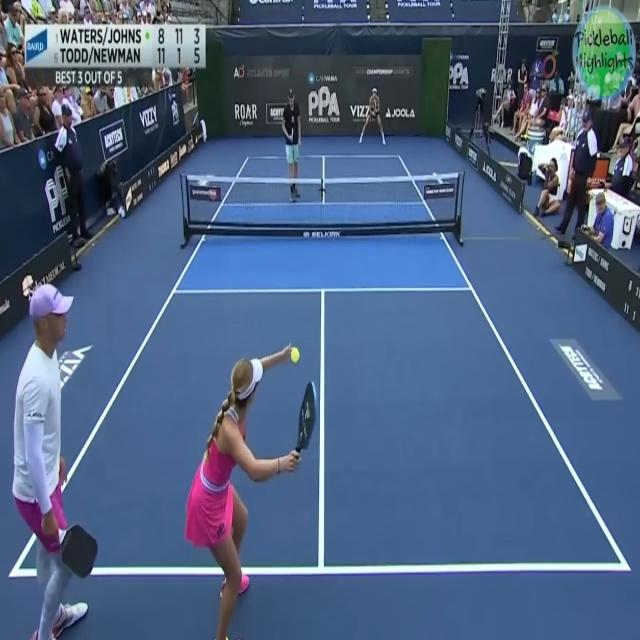Pickleball: (290, 345, 300, 363)
